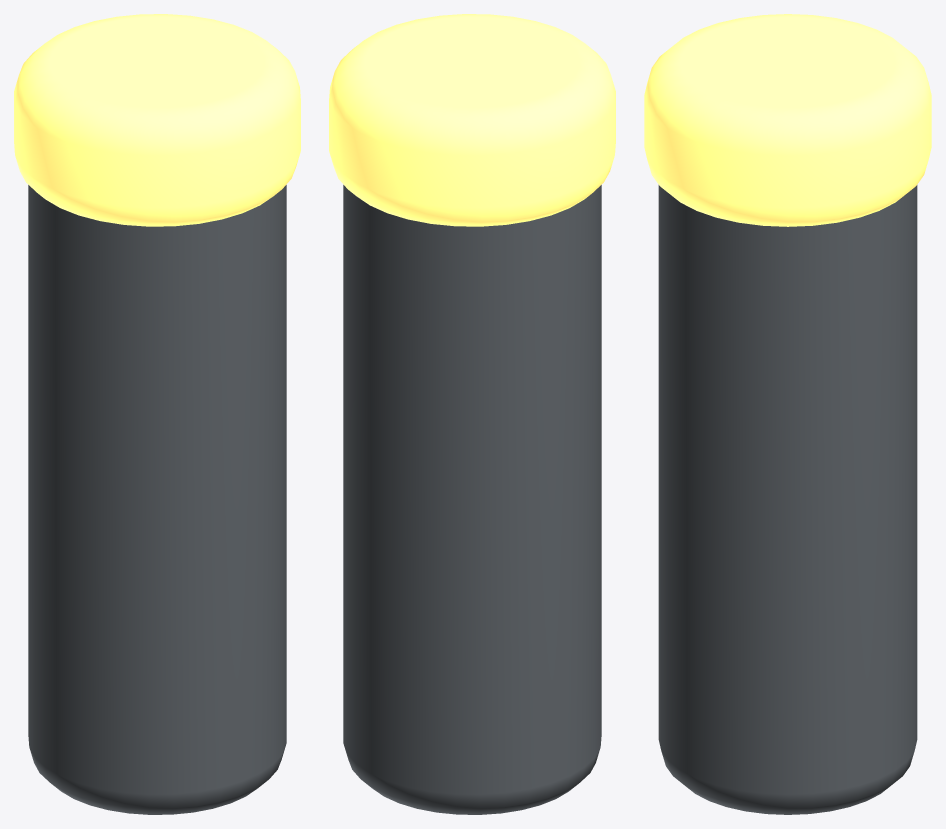
Rendered from ped_light_bollard_lod0_v2.glb.
The picture shows the model from 3 angles, left to right: view 1: azimuth 30°, elevation 25°; view 2: azimuth 150°, elevation 25°; view 3: azimuth 270°, elevation 25°; orthographic projection.
Parts seen in each view (by area): view 1: LOD0_PED_LIGHT_BOLLARD_Post, LOD0_PED_LIGHT_BOLLARD_Glow; view 2: LOD0_PED_LIGHT_BOLLARD_Post, LOD0_PED_LIGHT_BOLLARD_Glow; view 3: LOD0_PED_LIGHT_BOLLARD_Post, LOD0_PED_LIGHT_BOLLARD_Glow.
Boxes of the visible parts, <box> form: LOD0_PED_LIGHT_BOLLARD_Post: <box>28,185,286,814</box>; LOD0_PED_LIGHT_BOLLARD_Glow: <box>14,14,300,226</box>; LOD0_PED_LIGHT_BOLLARD_Post: <box>343,185,601,814</box>; LOD0_PED_LIGHT_BOLLARD_Glow: <box>329,14,615,226</box>; LOD0_PED_LIGHT_BOLLARD_Post: <box>658,185,917,814</box>; LOD0_PED_LIGHT_BOLLARD_Glow: <box>644,14,931,226</box>.
Size of what is drawn, in the model's own units: 0.4 by 1.09 by 0.4.
